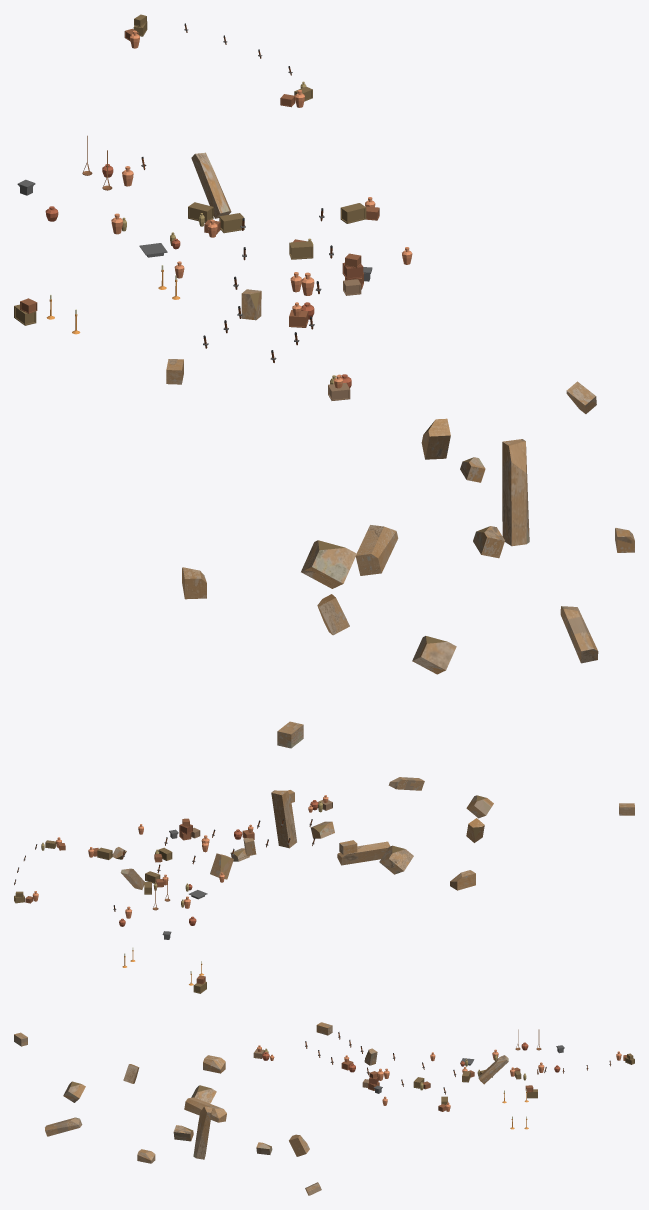
File: colera2finalObjects.glb
3 renders of one model, top to bottom at view 1: azimuth 30°, elevation 25°; view 2: azimuth 150°, elevation 25°; view 3: azimuth 270°, elevation 25°, orthographic. The views are drawn at different scales.
Parts seen in each view (by area): view 1: Cube.163; view 2: Cube.163; view 3: Cube.163.
Part boxes in pixels (<box>): Cube.163: <box>14,14,634,748</box>; Cube.163: <box>14,777,634,993</box>; Cube.163: <box>14,1022,634,1195</box>.
Bounding box in the file's own units: 228 × 79.98 × 395.
Materials: 110 (1 with a texture image).
